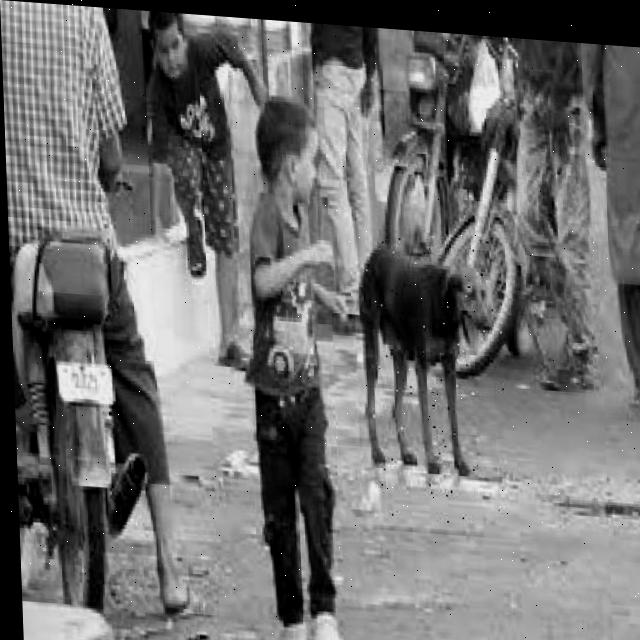Dog: (363, 229, 512, 531)
